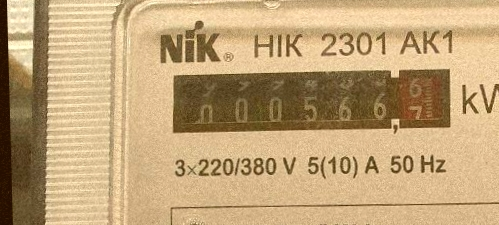0: (265, 93, 284, 123), (231, 93, 249, 123), (195, 99, 215, 122)
5: (300, 92, 319, 122)
6: (369, 88, 389, 120), (333, 92, 353, 121), (407, 74, 423, 100)
7: (407, 102, 423, 121)
9: (199, 77, 217, 97)
screen: (162, 59, 456, 142)
